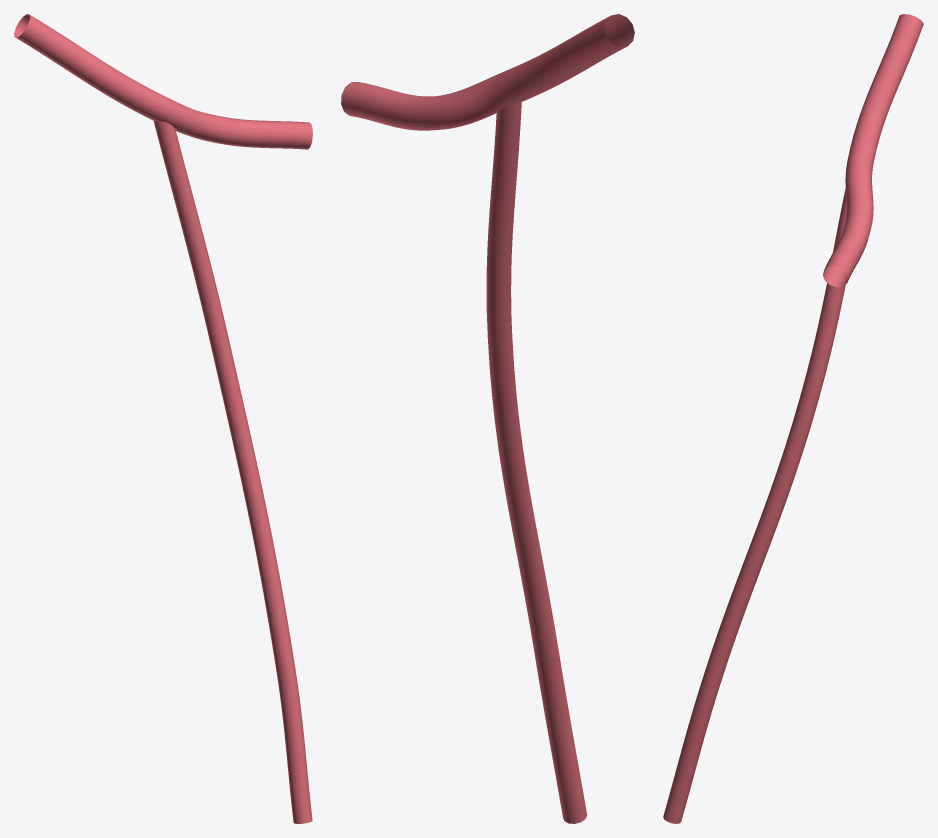
3 renders of one model, left to right at view 1: azimuth 30°, elevation 25°; view 2: azimuth 150°, elevation 25°; view 3: azimuth 270°, elevation 25°, orthographic. The views are drawn at different scales.
Visible parts, largest first — view 1: ZA_e14cad8929d2939a; view 2: ZA_e14cad8929d2939a; view 3: ZA_e14cad8929d2939a.
Boxes of the visible parts, box(x1,y1,x2,y2) form: ZA_e14cad8929d2939a: box(14, 14, 312, 823); ZA_e14cad8929d2939a: box(341, 14, 634, 823); ZA_e14cad8929d2939a: box(663, 14, 923, 823).
Size of the model in its own units: 0.0403 by 0.1125 by 0.0362.
